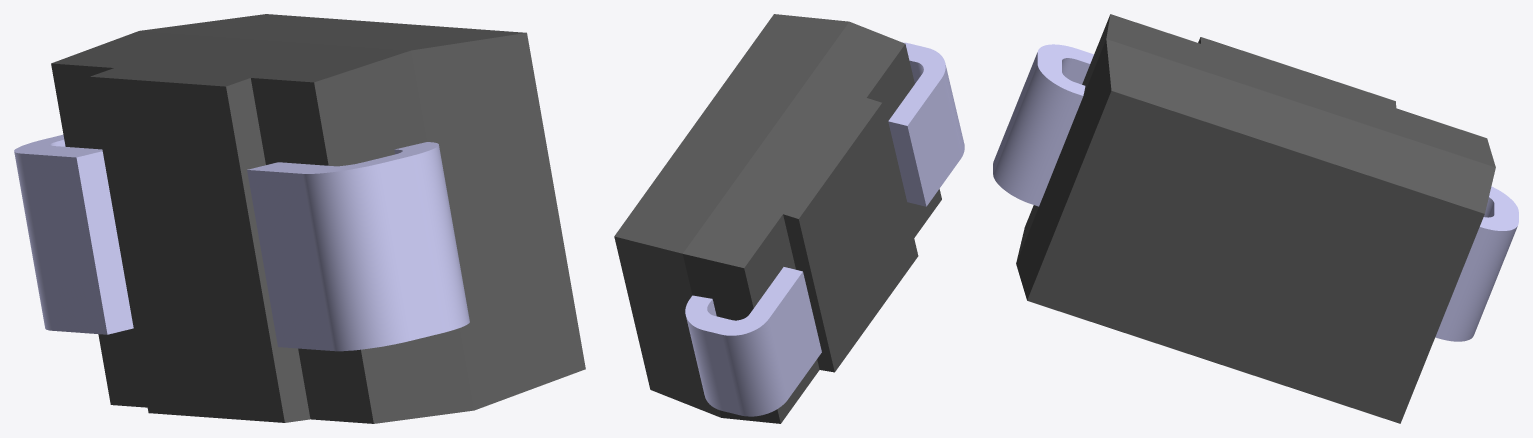
The model's file is EBoxNewAsm_stp_1_IMC413_stp_1_IMC413_12_stp_1_solid1.obj.
3 views of the same model, side by side, from view 1: azimuth 30°, elevation 25°; view 2: azimuth 150°, elevation 25°; view 3: azimuth 270°, elevation 25° (orthographic). The views are drawn at different scales.
Visible parts, largest first — view 1: mesh8285, mesh8290, mesh8282, mesh8270, mesh8288, mesh8283, mesh8300, mesh8269, mesh8291, mesh8287, mesh8272, mesh8284 (+5 smaller); view 2: mesh8288, mesh8291, mesh8285, mesh8294, mesh8299, mesh8300, mesh8269, mesh8295, mesh8287, mesh8305, mesh8283, mesh8279 (+5 smaller); view 3: mesh8292, mesh8291, mesh8288, mesh8290, mesh8272, mesh8297, mesh8279, mesh8305, mesh8281, mesh8282, mesh8271.
Part boxes in pixels (x1=…): mesh8285: x1=89, y1=76, x2=284, y2=422; mesh8290: x1=411, y1=33, x2=585, y2=410; mesh8282: x1=314, y1=50, x2=474, y2=423; mesh8270: x1=302, y1=163, x2=410, y2=351; mesh8288: x1=51, y1=31, x2=410, y2=86; mesh8283: x1=251, y1=78, x2=373, y2=423; mesh8300: x1=21, y1=153, x2=107, y2=334; mesh8269: x1=247, y1=170, x2=333, y2=350; mesh8291: x1=140, y1=14, x2=526, y2=50; mesh8287: x1=51, y1=63, x2=147, y2=407; mesh8272: x1=409, y1=145, x2=469, y2=333; mesh8284: x1=226, y1=78, x2=310, y2=422; mesh8288: x1=683, y1=21, x2=904, y2=267; mesh8291: x1=614, y1=14, x2=848, y2=253; mesh8285: x1=798, y1=103, x2=918, y2=371; mesh8294: x1=614, y1=236, x2=721, y2=417; mesh8299: x1=721, y1=319, x2=787, y2=416; mesh8300: x1=769, y1=272, x2=821, y2=398; mesh8269: x1=907, y1=79, x2=960, y2=206; mesh8295: x1=683, y1=254, x2=780, y2=423; mesh8287: x1=744, y1=215, x2=819, y2=423; mesh8305: x1=685, y1=267, x2=802, y2=335; mesh8283: x1=867, y1=44, x2=941, y2=237; mesh8279: x1=888, y1=42, x2=945, y2=125; mesh8292: x1=1027, y1=91, x2=1484, y2=423; mesh8291: x1=1106, y1=39, x2=1495, y2=213; mesh8288: x1=1106, y1=14, x2=1495, y2=167; mesh8290: x1=1016, y1=39, x2=1111, y2=300; mesh8272: x1=993, y1=64, x2=1076, y2=204; mesh8297: x1=1435, y1=226, x2=1517, y2=341; mesh8279: x1=1037, y1=44, x2=1093, y2=95; mesh8305: x1=1480, y1=186, x2=1518, y2=230; mesh8281: x1=1032, y1=94, x2=1083, y2=206; mesh8282: x1=1016, y1=15, x2=1110, y2=262; mesh8271: x1=993, y1=53, x2=1037, y2=173.
Bounding box in the file's own units: 0.00198 × 0.00375 × 0.00506.
